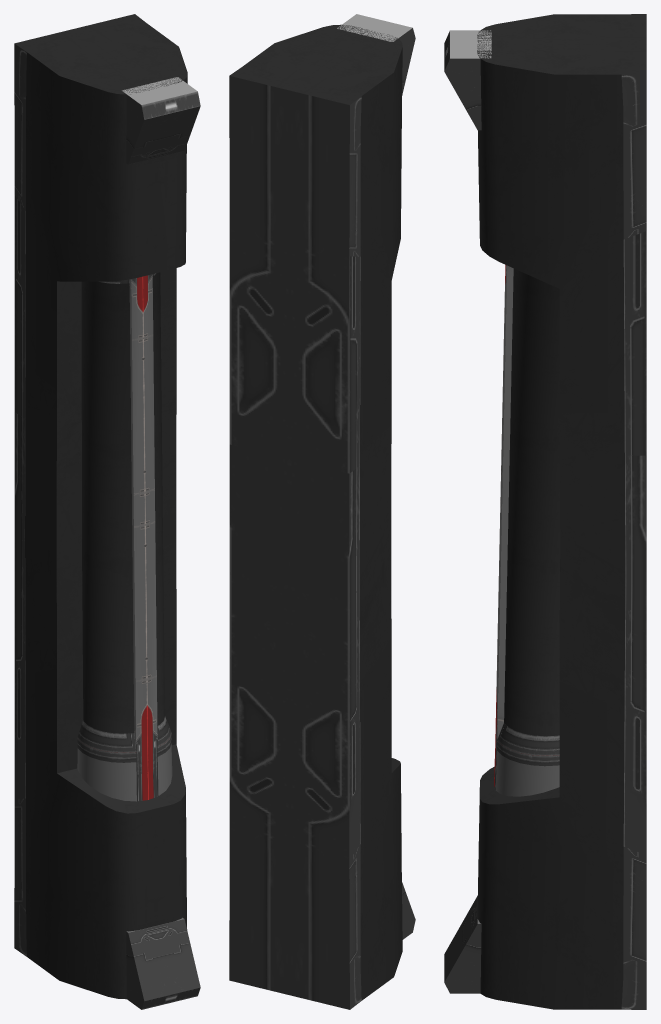
Rendered from Column_Large_Straight.gltf.
The picture shows the model from 3 angles, left to right: view 1: azimuth 30°, elevation 25°; view 2: azimuth 150°, elevation 25°; view 3: azimuth 270°, elevation 25°; orthographic projection. The views are drawn at different scales.
Visible parts, largest first — view 1: Column_Large_Straight; view 2: Column_Large_Straight; view 3: Column_Large_Straight.
Part boxes in pixels (bbox=[...]): Column_Large_Straight: bbox=[14, 14, 200, 1009]; Column_Large_Straight: bbox=[229, 14, 415, 1009]; Column_Large_Straight: bbox=[444, 14, 646, 1009].
Size of the model in its own units: 1.4 by 10 by 1.96.
4 materials, 4 textured.
